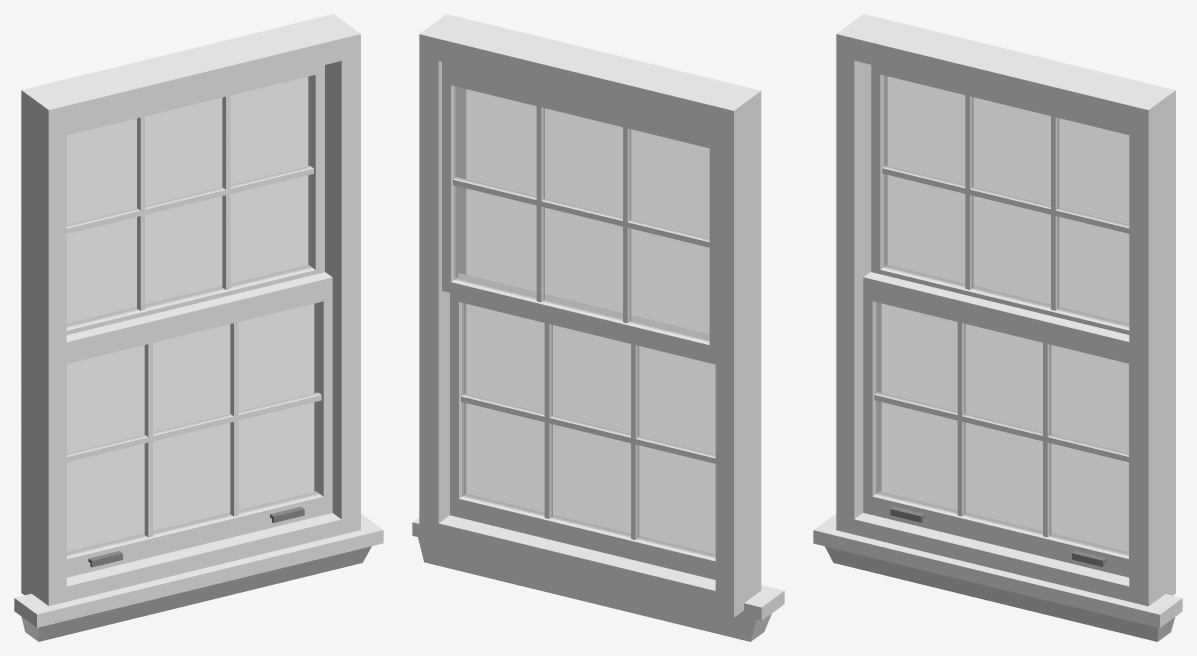
Rendered from Window.FBX.
3 renders of one model, left to right at view 1: azimuth 30°, elevation 25°; view 2: azimuth 150°, elevation 25°; view 3: azimuth 330°, elevation 25°, orthographic.
Visible parts, largest first — view 1: window frame, window B, window A; view 2: window frame, window A, window B; view 3: window frame, window B, window A.
Part boxes in pixels (x1,y1,x2,y2): window frame: (14, 14, 383, 641); window B: (66, 272, 332, 577); window A: (66, 65, 324, 334); window frame: (412, 14, 784, 641); window A: (442, 62, 715, 357); window B: (450, 273, 715, 579); window frame: (813, 14, 1182, 641); window B: (863, 272, 1129, 577); window A: (871, 65, 1129, 334).
Bounding box in the file's own units: 111 × 163 × 18.35.
3 materials, 1 textured.
